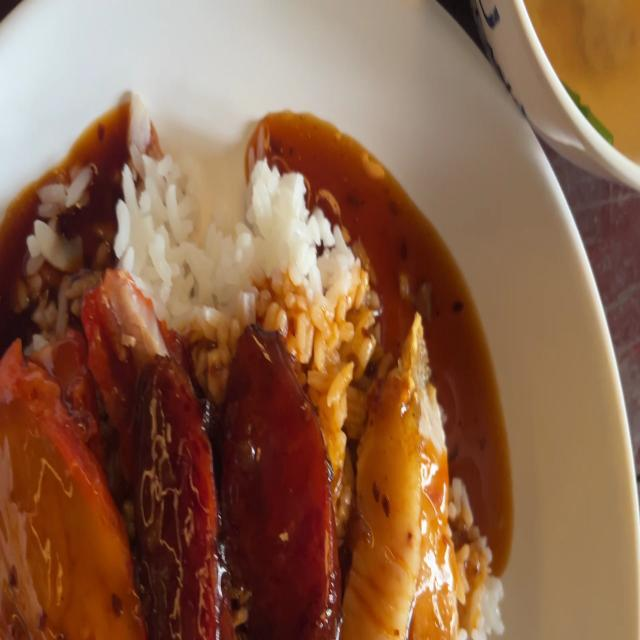stir_fried_basil: (127, 338, 329, 640), (226, 337, 330, 640), (133, 351, 217, 635)
